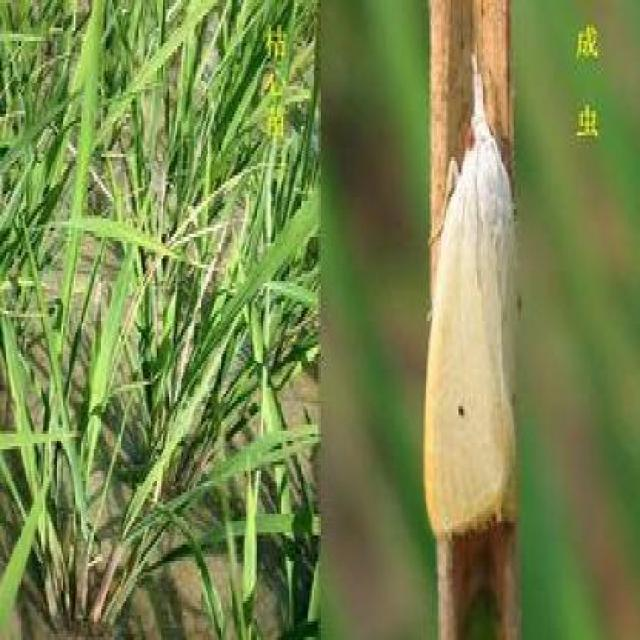stem-borer: (422, 52, 522, 542)
